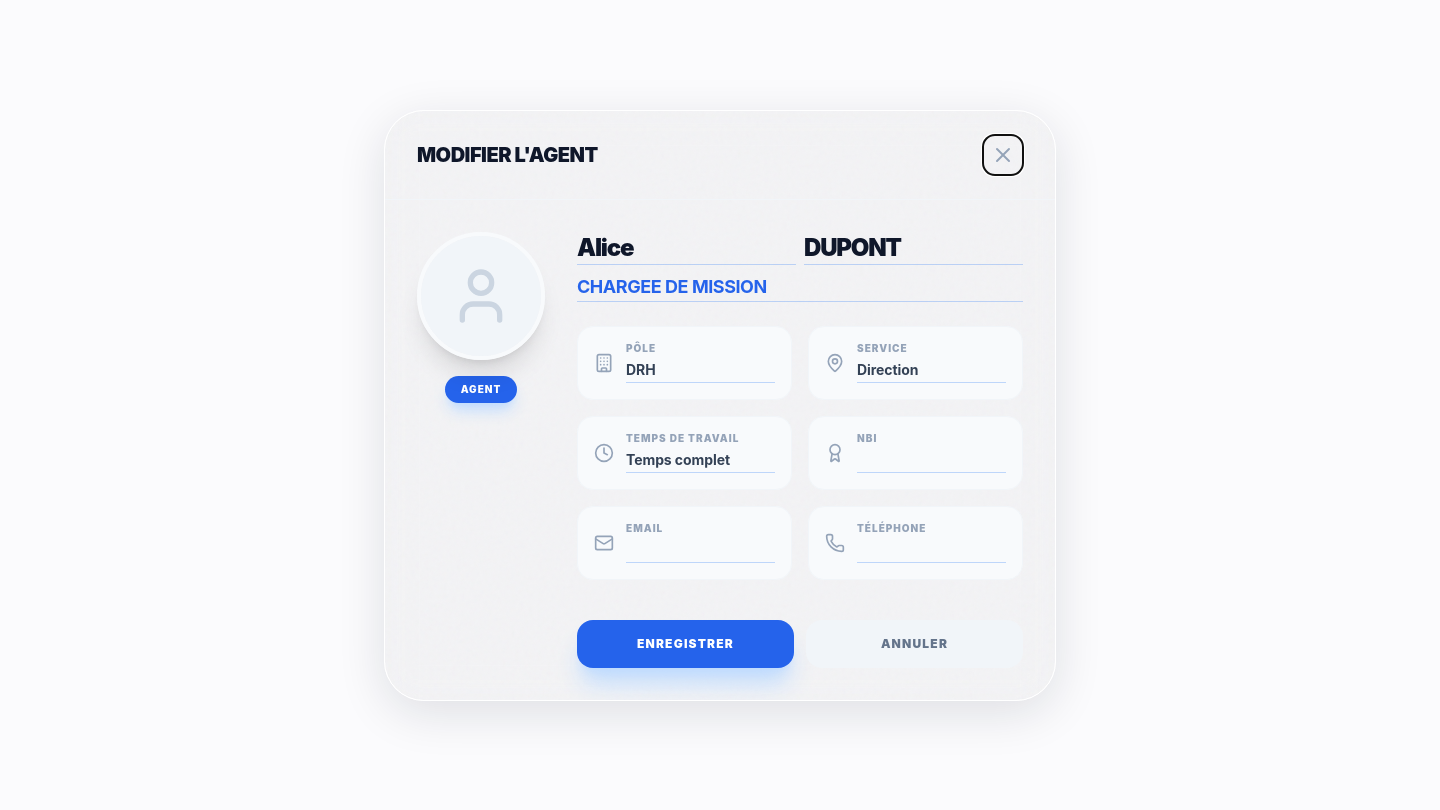
Test: ProfileModal › keeps the profile editor open when saving fails
Step 1. Click the button "Enregistrer" → (686, 644), box [577,620,794,668]
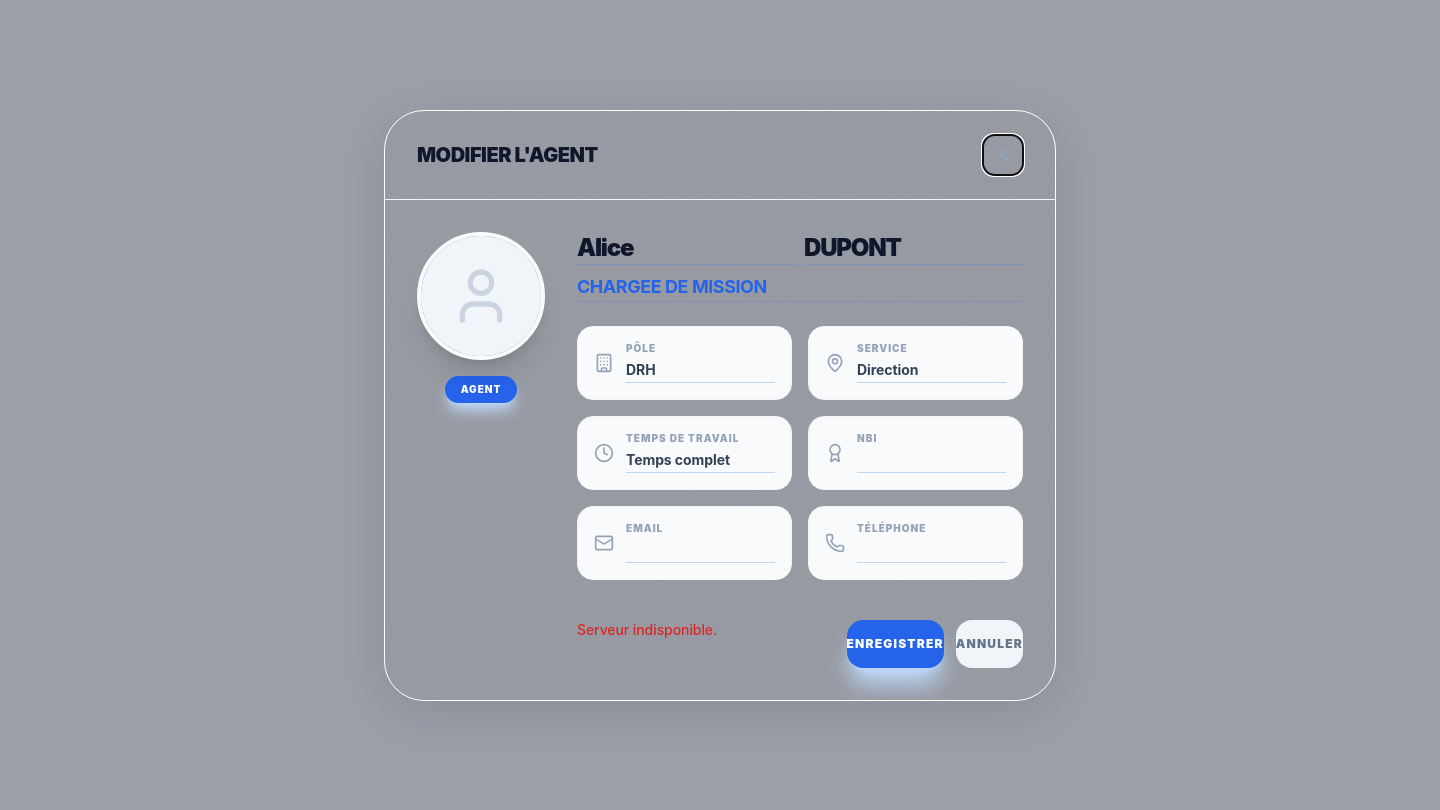
Check: the text "Serveur indisponible." is shown, box [577,620,717,638]
